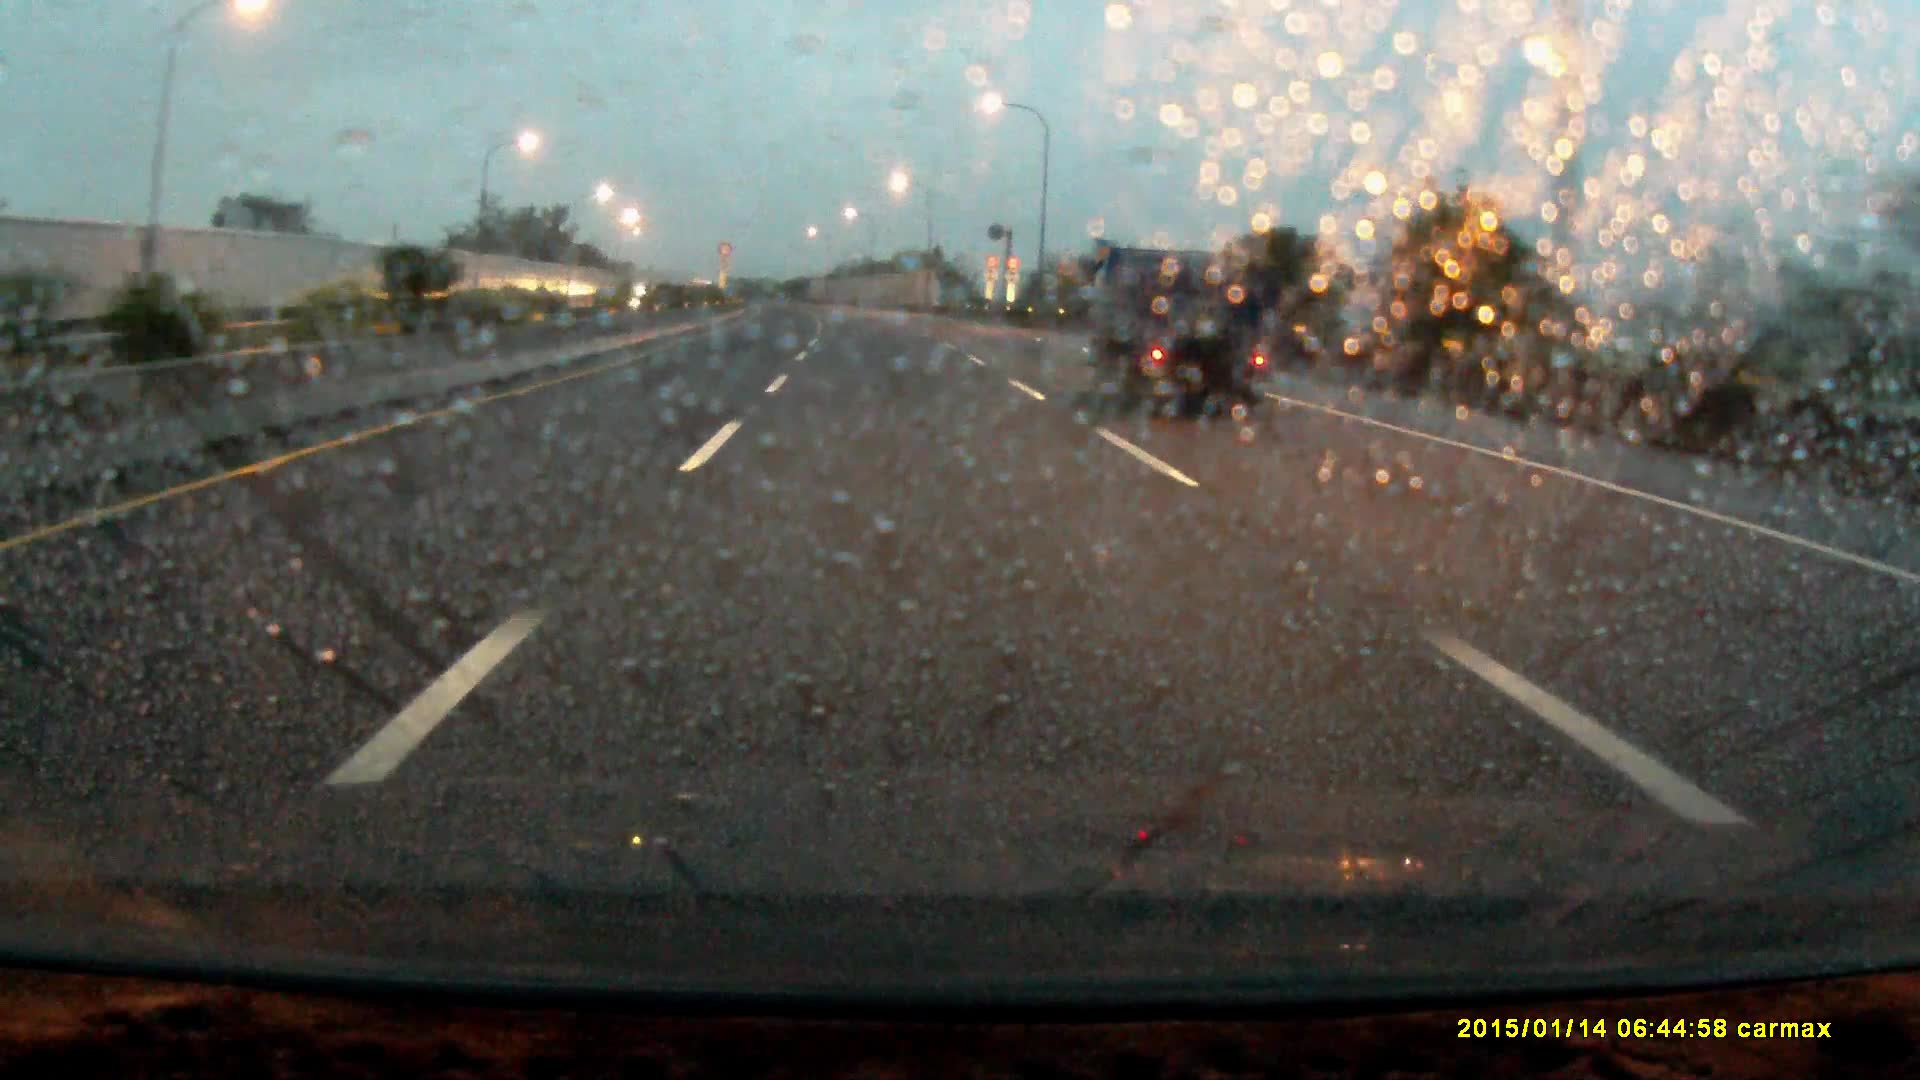vehicle: (1081, 245, 1269, 411)
